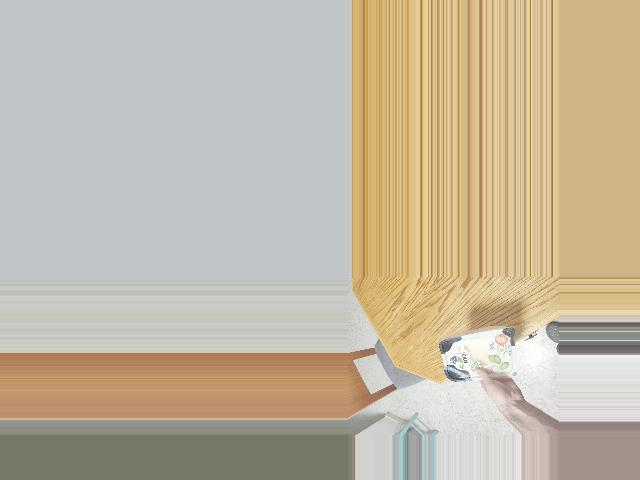cheese: (444, 329, 506, 391)
